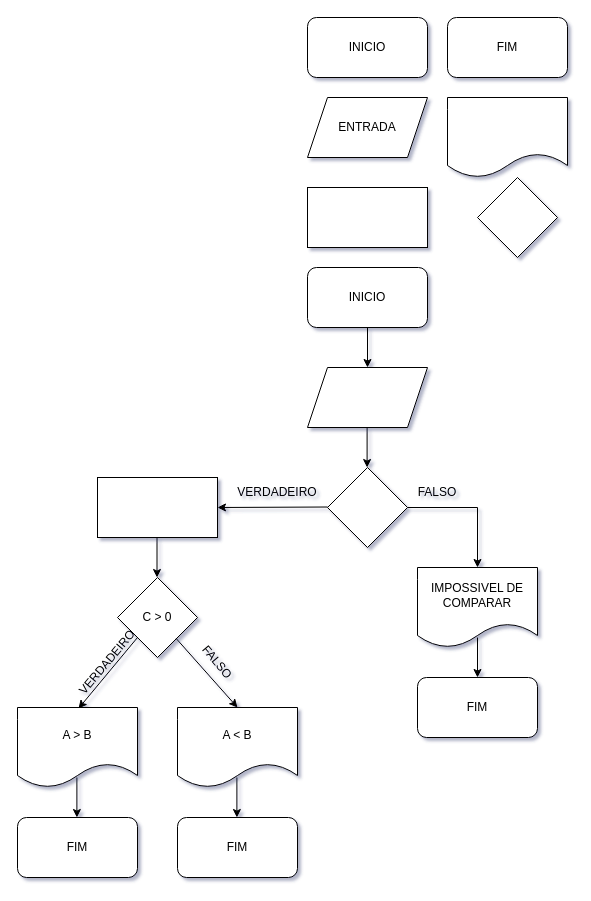
Some shapes in this 591 by 901 pixel diagram are drawn without their labels. Here are the shapes that lost their labels. From the top down, the box of each, then its label:
(446, 96, 568, 178): SAIDA
(306, 186, 428, 248): PROCESSAMENTO
(476, 176, 558, 258): DECISÃO
(306, 366, 428, 428): A, B
(96, 476, 218, 538): C = A - B
(326, 466, 408, 548): A<>B
